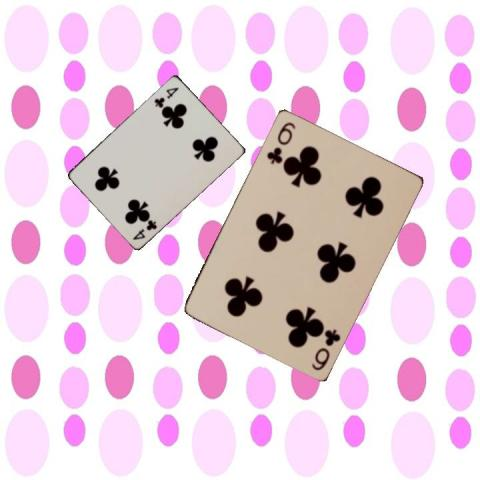4c: (151, 84, 180, 109), (129, 217, 159, 241)
6c: (264, 118, 298, 165), (308, 325, 342, 372)
